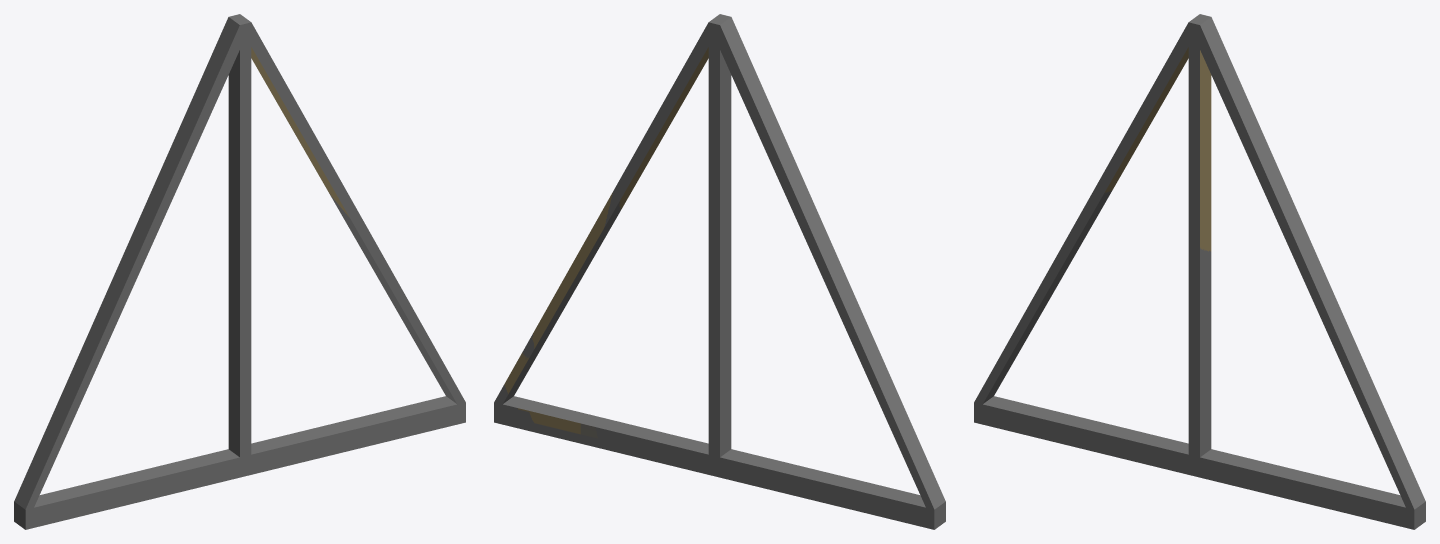
The model's file is suporterodagigante.obj.
The picture shows the model from 3 angles, left to right: view 1: azimuth 30°, elevation 25°; view 2: azimuth 150°, elevation 25°; view 3: azimuth 330°, elevation 25°; orthographic projection.
Parts seen in each view (by area): view 1: pCube5; view 2: pCube5; view 3: pCube5.
Part boxes in pixels (x1,y1,x2,y2): pCube5: (14, 14, 465, 529); pCube5: (494, 14, 945, 529); pCube5: (974, 14, 1425, 529).
Size of the model in its own units: 1.14 by 1.12 by 0.051.
